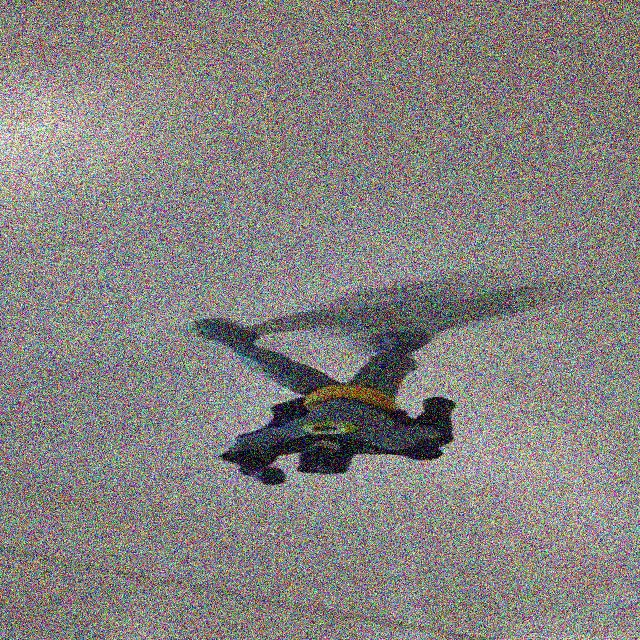Batman: (174, 306, 482, 482)
